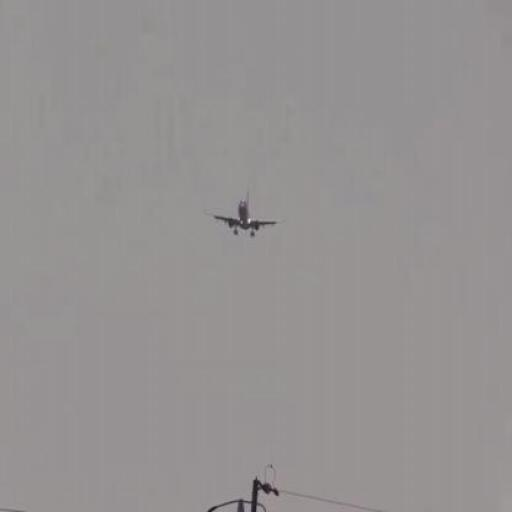aircraft: (204, 190, 287, 238)
